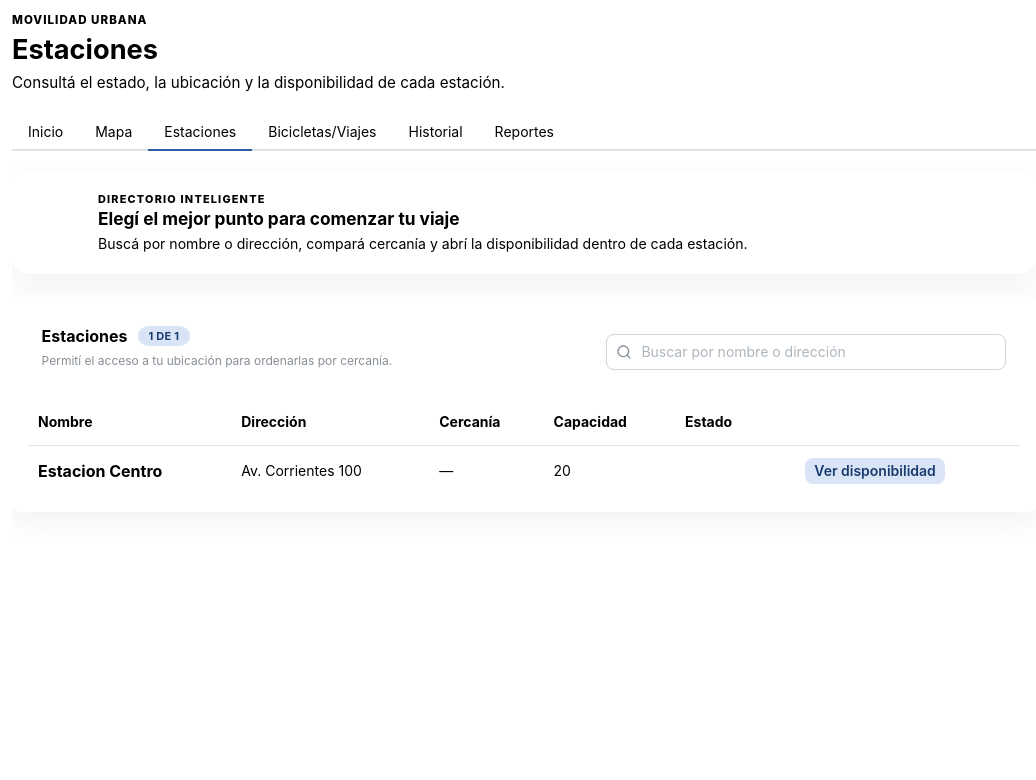
Test case: StationsPage › muestra un error si falla la consulta de disponibilidad
Click the button with aria-label "Consultar disponibilidad de Estacion Centro" at coordinates (875, 471), box [805,458,945,484]
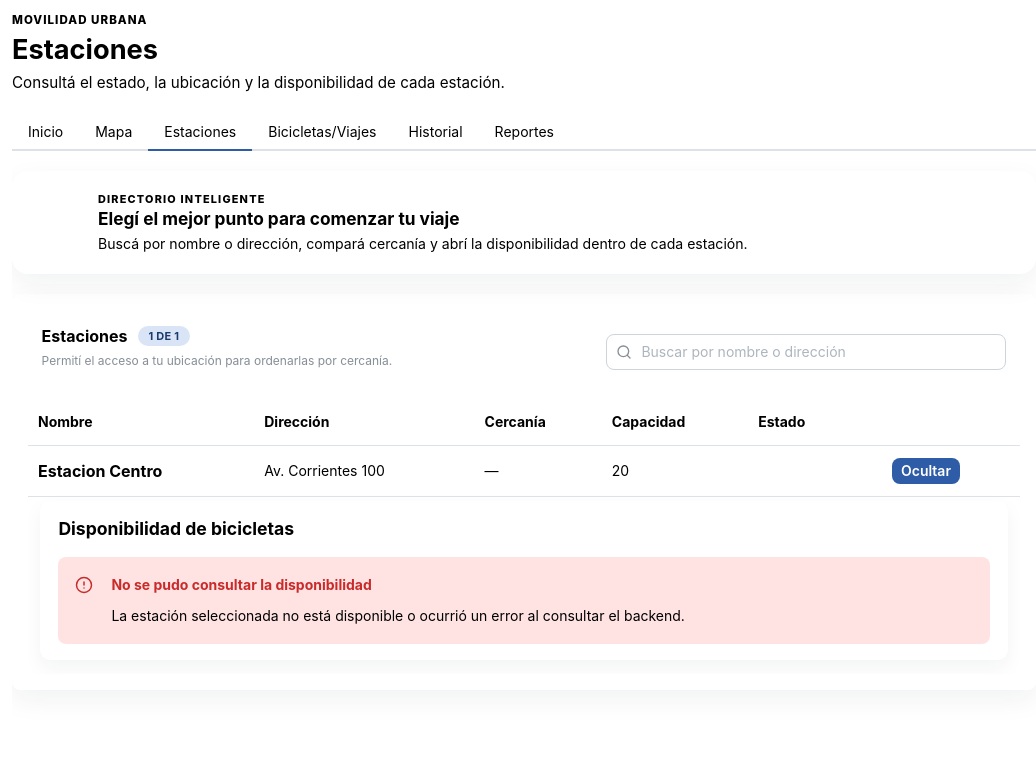
Result: the text "No se pudo consultar la disponibilidad" is shown at [111,574,372,595]
